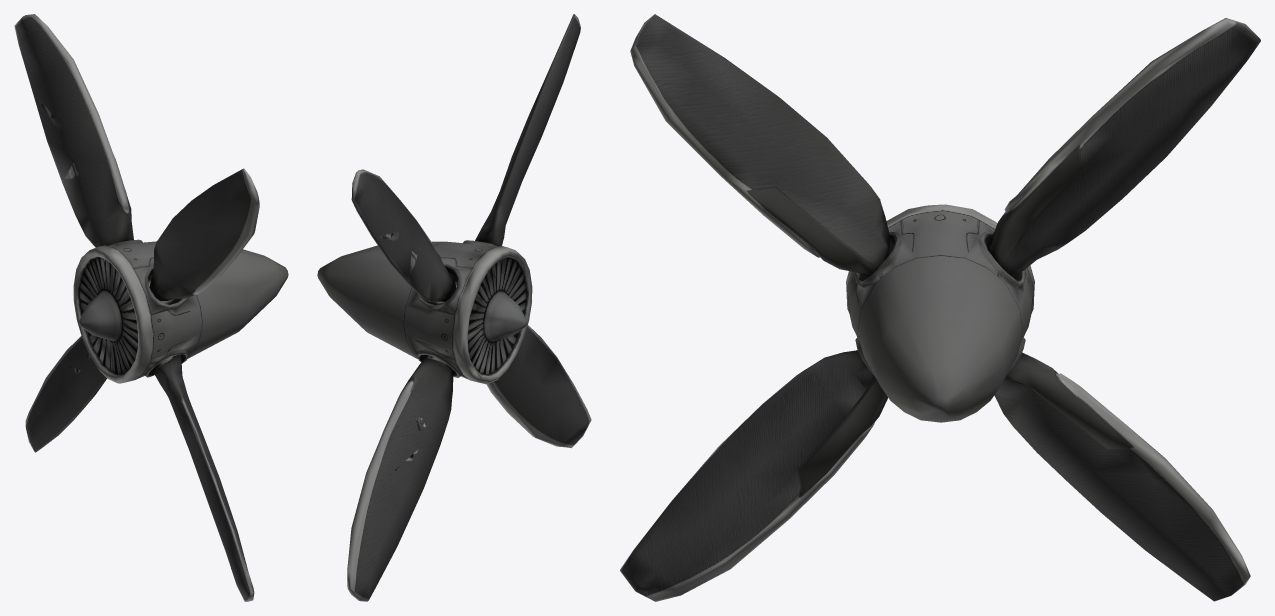
Rendered from prop4.glb.
3 renders of one model, left to right at view 1: azimuth 30°, elevation 25°; view 2: azimuth 150°, elevation 25°; view 3: azimuth 270°, elevation 25°, orthographic. The views are drawn at different scales.
Visible parts, largest first — view 1: tripo_node_b25ca8df-34a6-4df5-8bae-29833; view 2: tripo_node_b25ca8df-34a6-4df5-8bae-29833; view 3: tripo_node_b25ca8df-34a6-4df5-8bae-29833.
Part boxes in pixels (<box>): tripo_node_b25ca8df-34a6-4df5-8bae-29833: <box>14,14,288,601</box>; tripo_node_b25ca8df-34a6-4df5-8bae-29833: <box>317,14,591,601</box>; tripo_node_b25ca8df-34a6-4df5-8bae-29833: <box>620,14,1260,601</box>.
Bounding box in the file's own units: 0.499 × 1 × 0.9888.
Materials: 1 (1 with a texture image).
